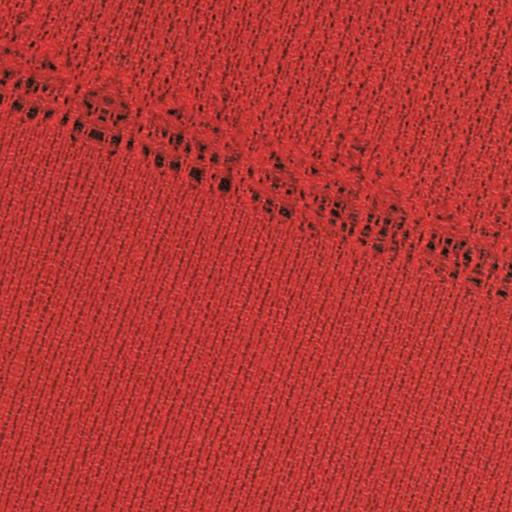slub: (1, 34, 512, 310)
